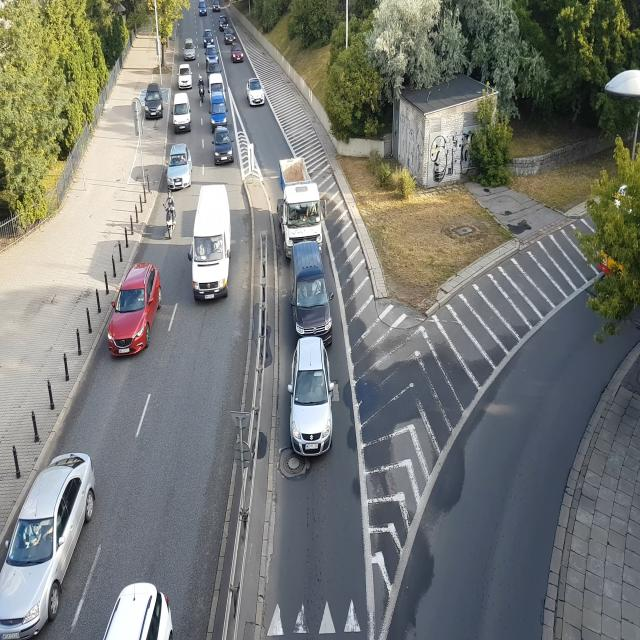car: (0, 456, 94, 639), (105, 252, 163, 365), (288, 340, 333, 465), (288, 243, 338, 342), (193, 186, 232, 305), (100, 576, 172, 640), (161, 136, 195, 190), (169, 90, 194, 136), (212, 127, 235, 166), (143, 86, 165, 120), (210, 93, 228, 127), (246, 80, 266, 107), (198, 22, 218, 49), (208, 74, 225, 97), (179, 68, 194, 90), (204, 52, 220, 70), (222, 27, 237, 46), (231, 46, 244, 64), (184, 48, 198, 61), (198, 0, 207, 16), (218, 16, 229, 28), (212, 0, 221, 13)
motorcycle: (159, 186, 179, 241), (197, 71, 207, 105)
truck: (272, 151, 326, 249)
